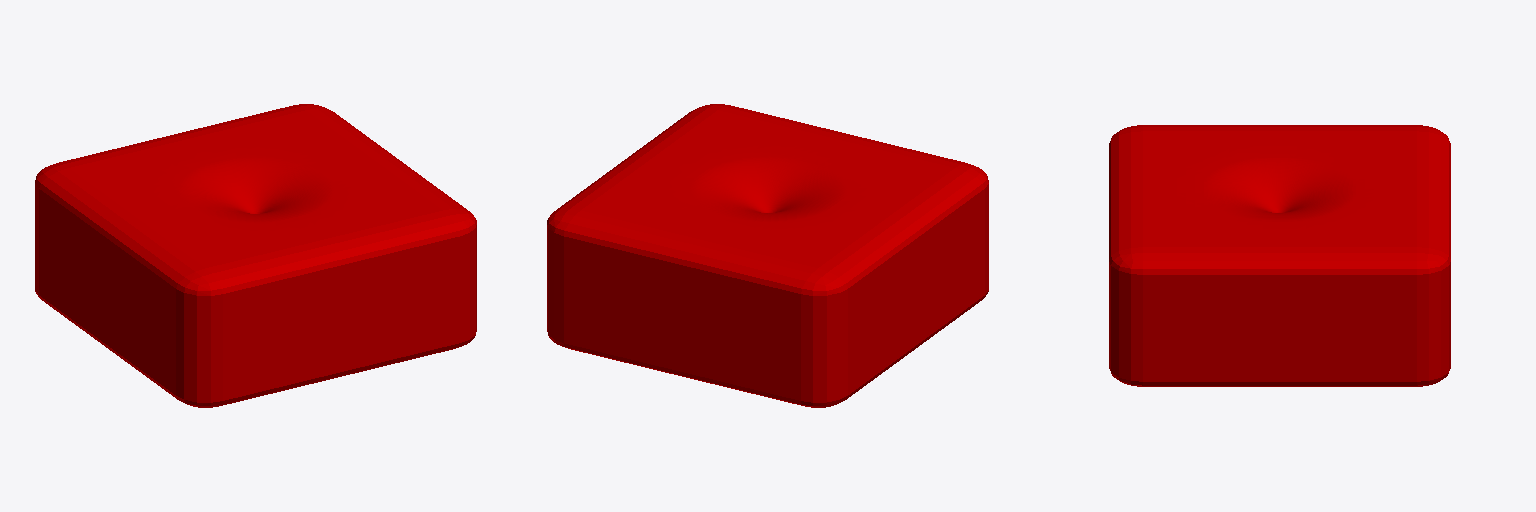
Rendered from couch.obj.
The picture shows the model from 3 angles: view 1: azimuth 30°, elevation 25°; view 2: azimuth 150°, elevation 25°; view 3: azimuth 270°, elevation 25°; orthographic projection.
Visible parts, largest first — view 1: sillón_pivote_Roundcube.001; view 2: sillón_pivote_Roundcube.001; view 3: sillón_pivote_Roundcube.001.
Part boxes in pixels (x1,y1,x2,y2): sillón_pivote_Roundcube.001: (35,104,476,407); sillón_pivote_Roundcube.001: (547,104,988,407); sillón_pivote_Roundcube.001: (1109,125,1450,386).
Bounding box in the file's own units: 3 × 1.29 × 3.